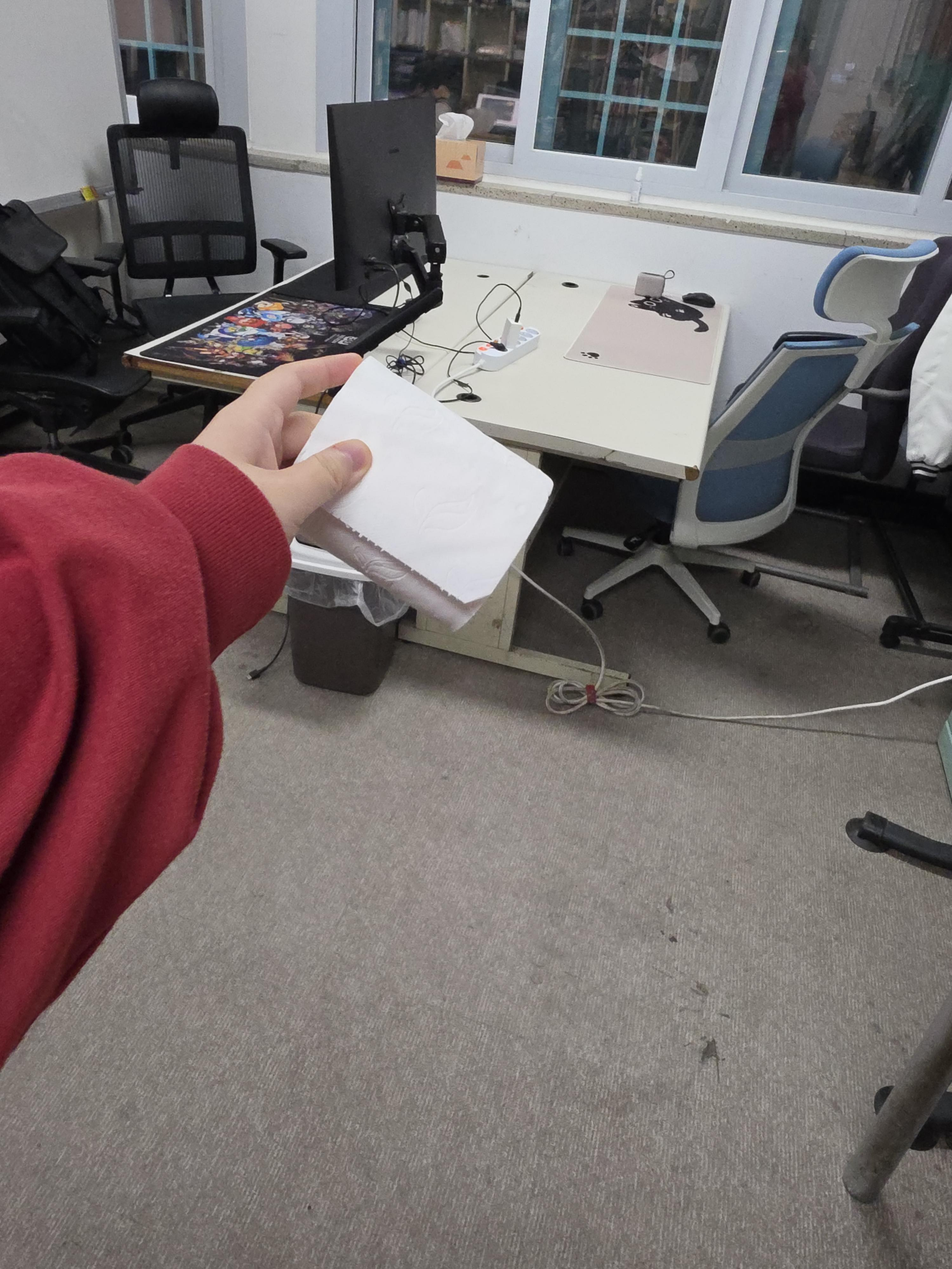tissue: (296, 354, 554, 631), (436, 112, 486, 182)
